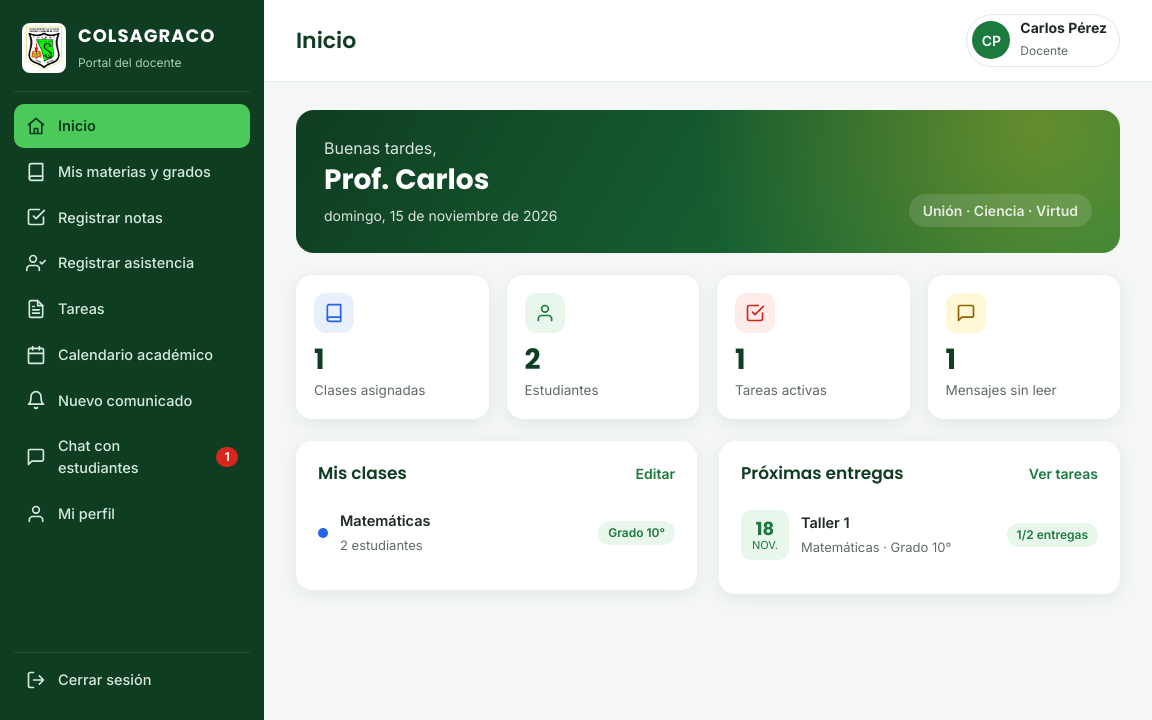
Test: Plataforma del docente › Asistencia: marca una falta y guarda la lista del día
Expected: the heading "Prof. Carlos" is shown, [324,160,489,199]
Click the button "Registrar asistencia": (132, 263) [14,241,250,285]
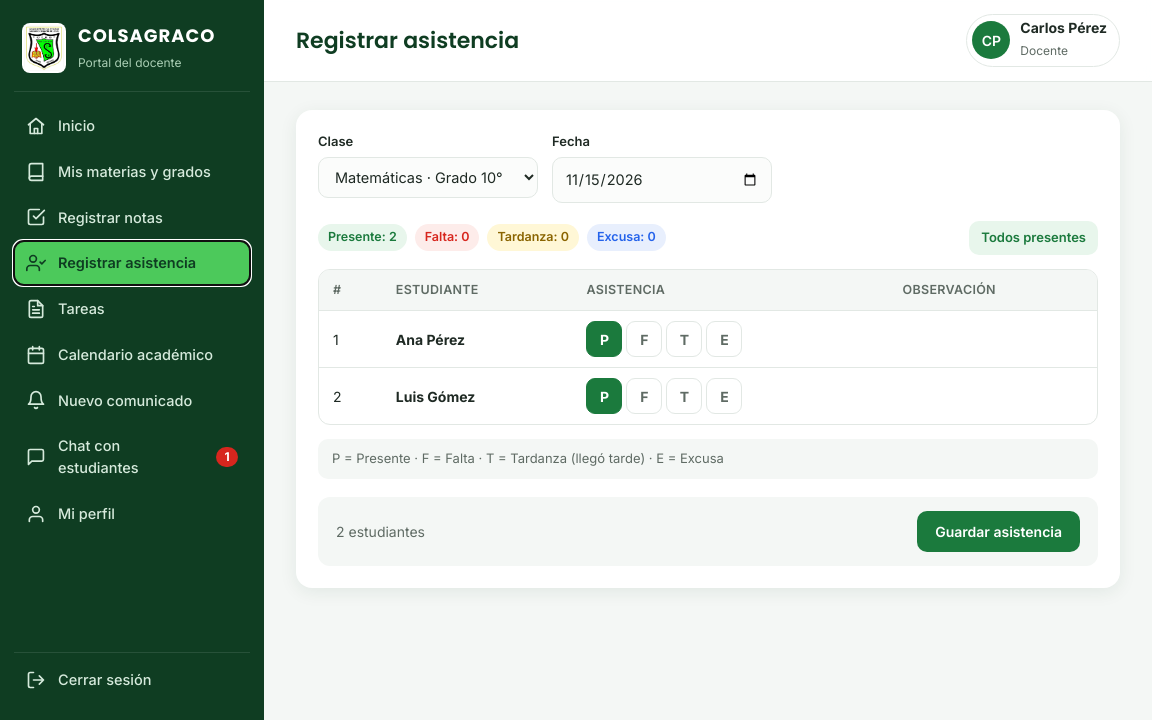
Click the radio button labelled "F" in the row of "Luis Gómez": (644, 396) [626,378,662,414]
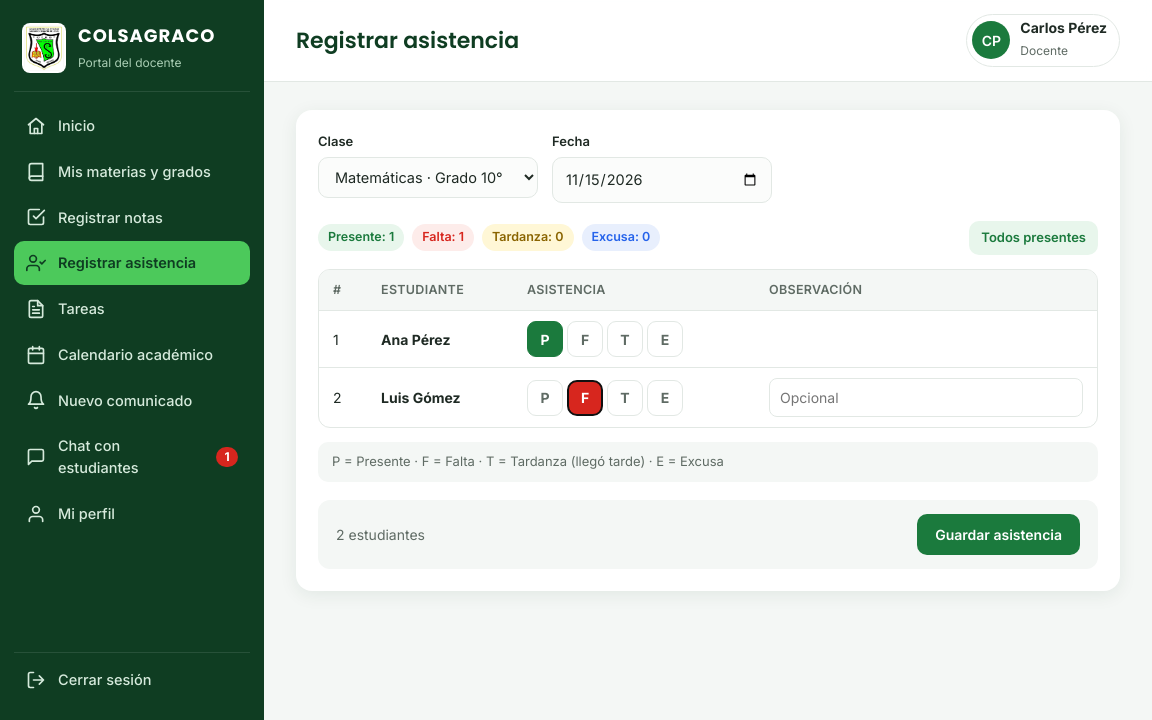
In the field: (926, 398) [769,378,1083,417], type "No vino"
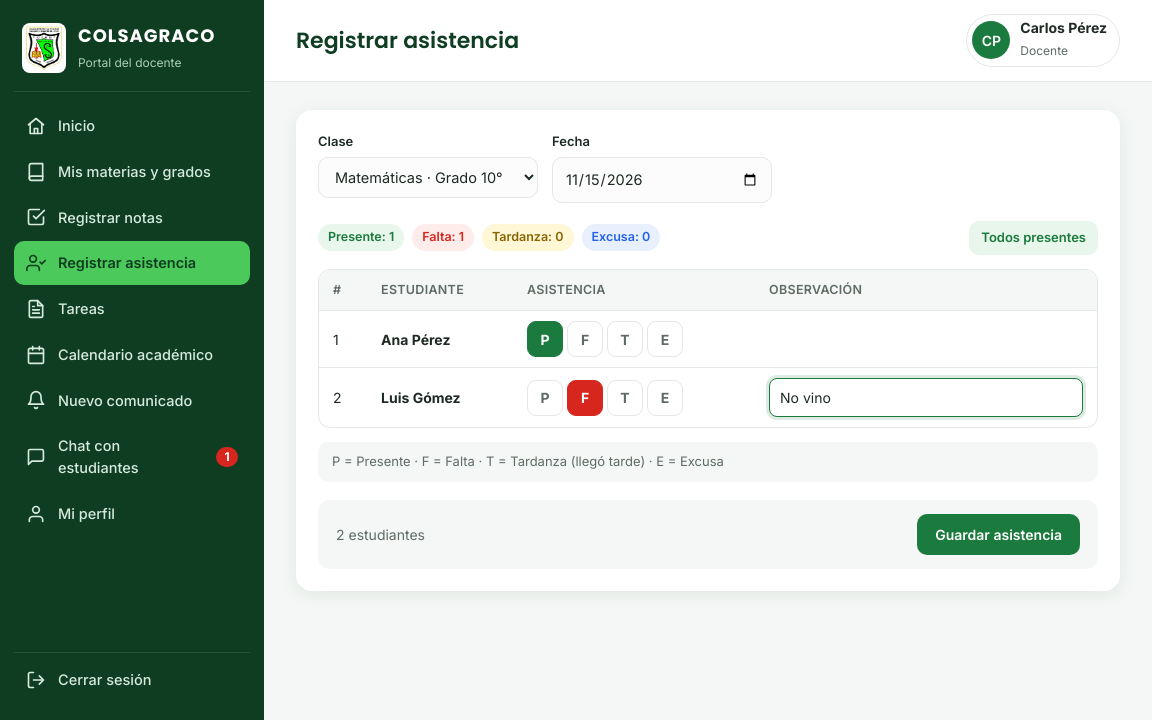
Expected: the text "Falta: 1" is shown, [412,224,474,251]
Click the button "Guardar asistencia": (999, 534) [917,514,1080,555]
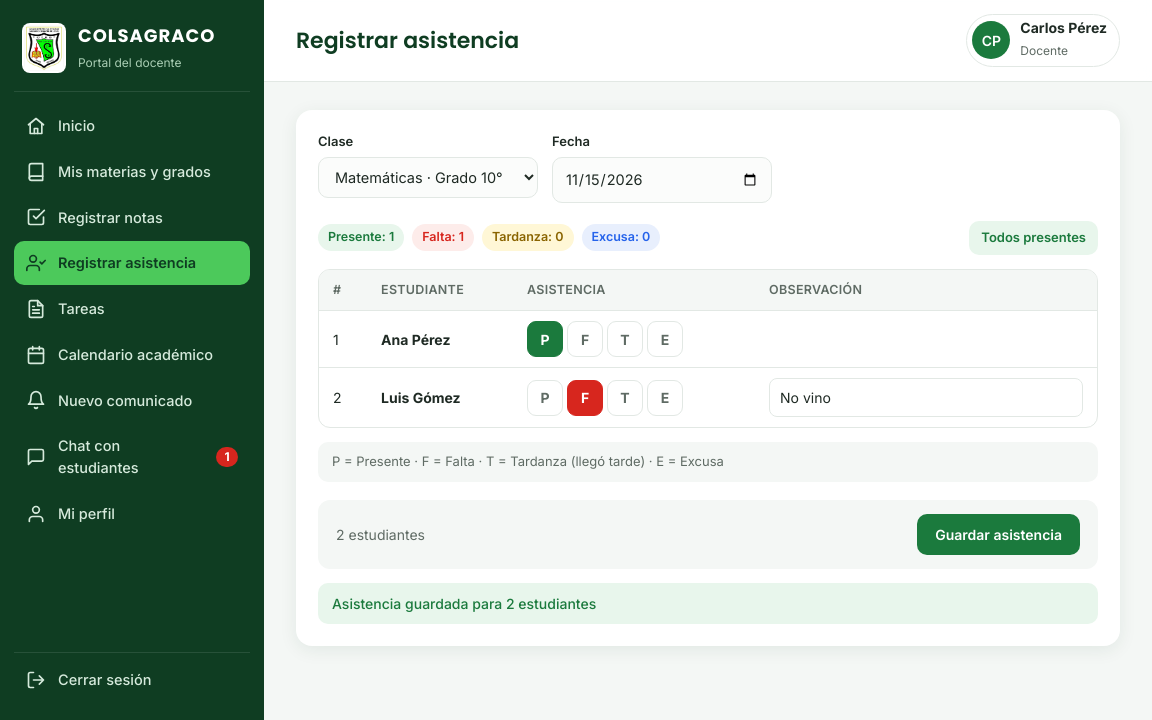
Expected: the text "Asistencia guardada para 2 estudiantes" is shown, [318,583,1098,624]
